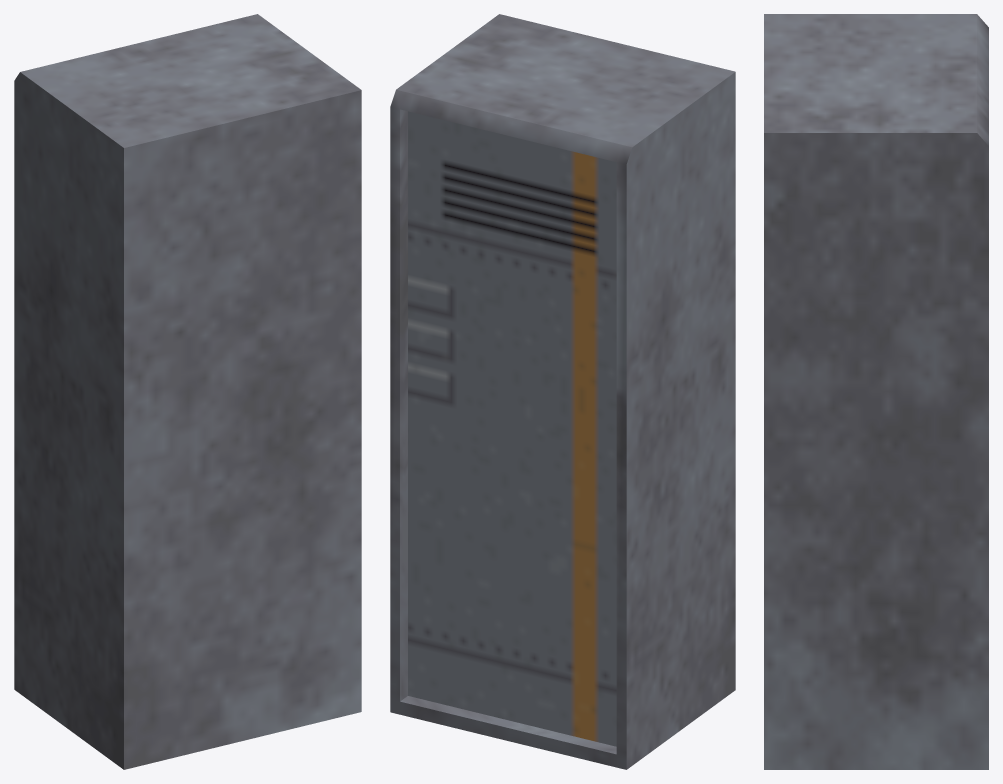
Rendered from cabinet.fbx.
The picture shows the model from 3 angles, left to right: view 1: azimuth 30°, elevation 25°; view 2: azimuth 150°, elevation 25°; view 3: azimuth 270°, elevation 25°; orthographic projection. The views are drawn at different scales.
Parts seen in each view (by area): view 1: cabinet; view 2: cabinet; view 3: cabinet.
Part boxes in pixels (<box>): cabinet: <box>14,14,361,769</box>; cabinet: <box>390,14,735,769</box>; cabinet: <box>764,14,988,769</box>.
Size of the model in its own units: 125 by 313 by 100.
